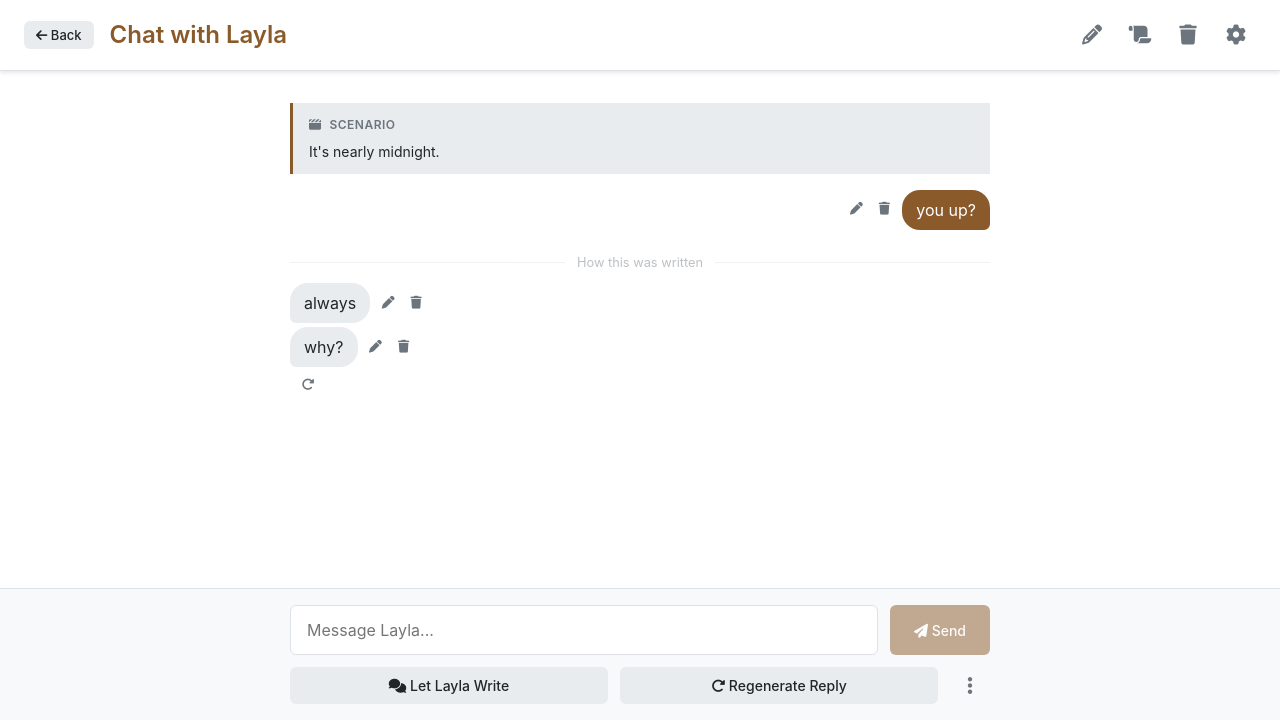
Test: ChatView › edits and deletes single messages
Click the button titled "Edit this message" next to "always" at {"x": 388, "y": 304}, box top-left (374, 290), bottom-right (402, 318)
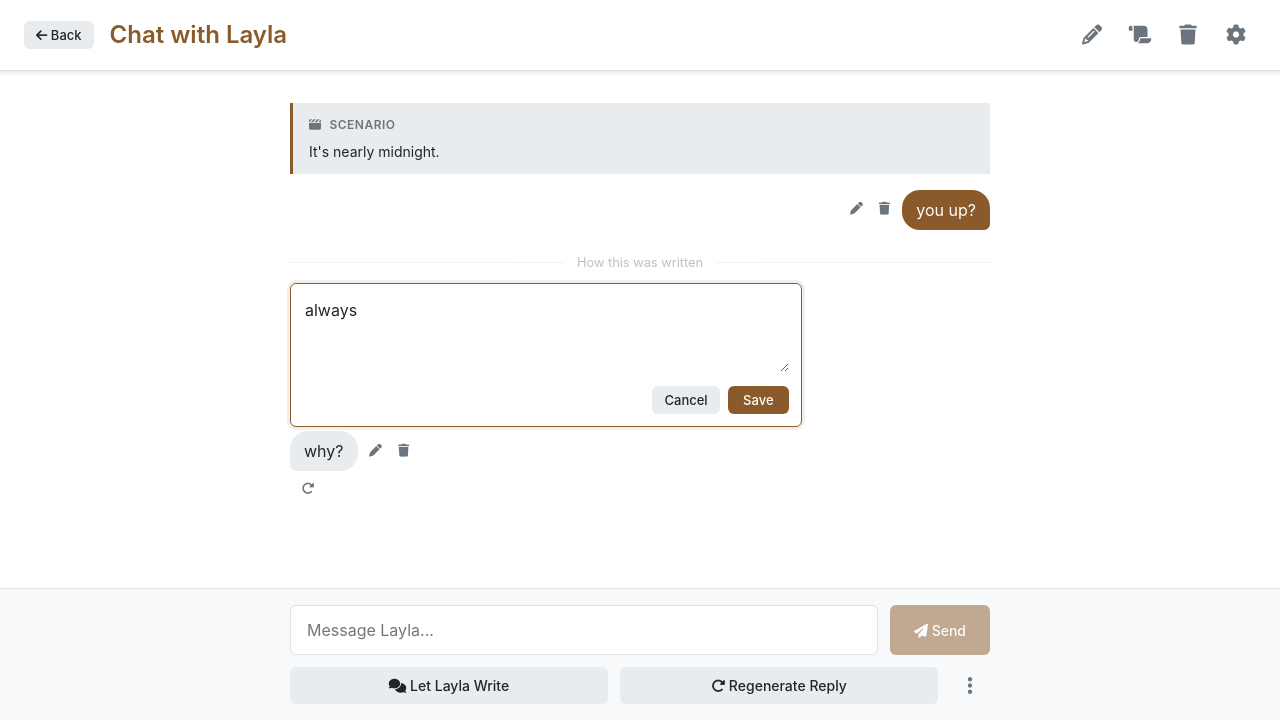
Replace the text in the text box with class "bubble-editor" with "always!" at {"x": 546, "y": 334}, box top-left (303, 296), bottom-right (789, 372)
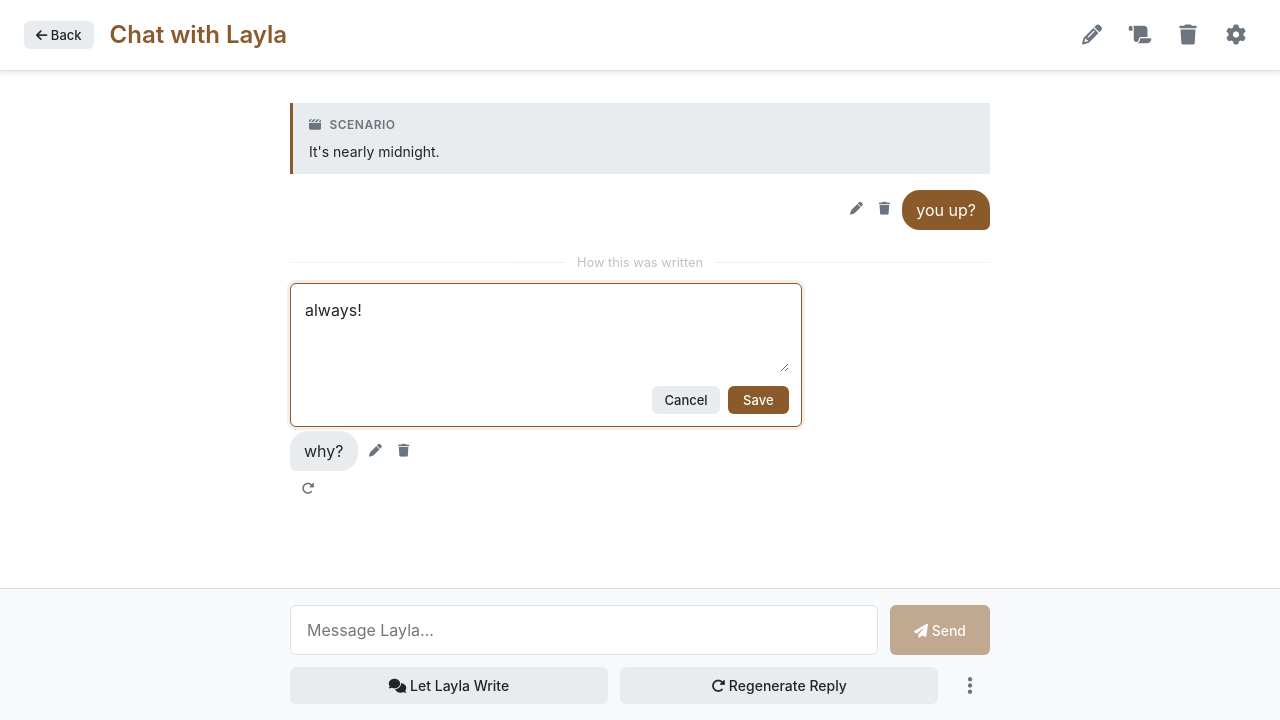
Click the button "Save" at {"x": 758, "y": 400}, box top-left (728, 386), bottom-right (789, 414)
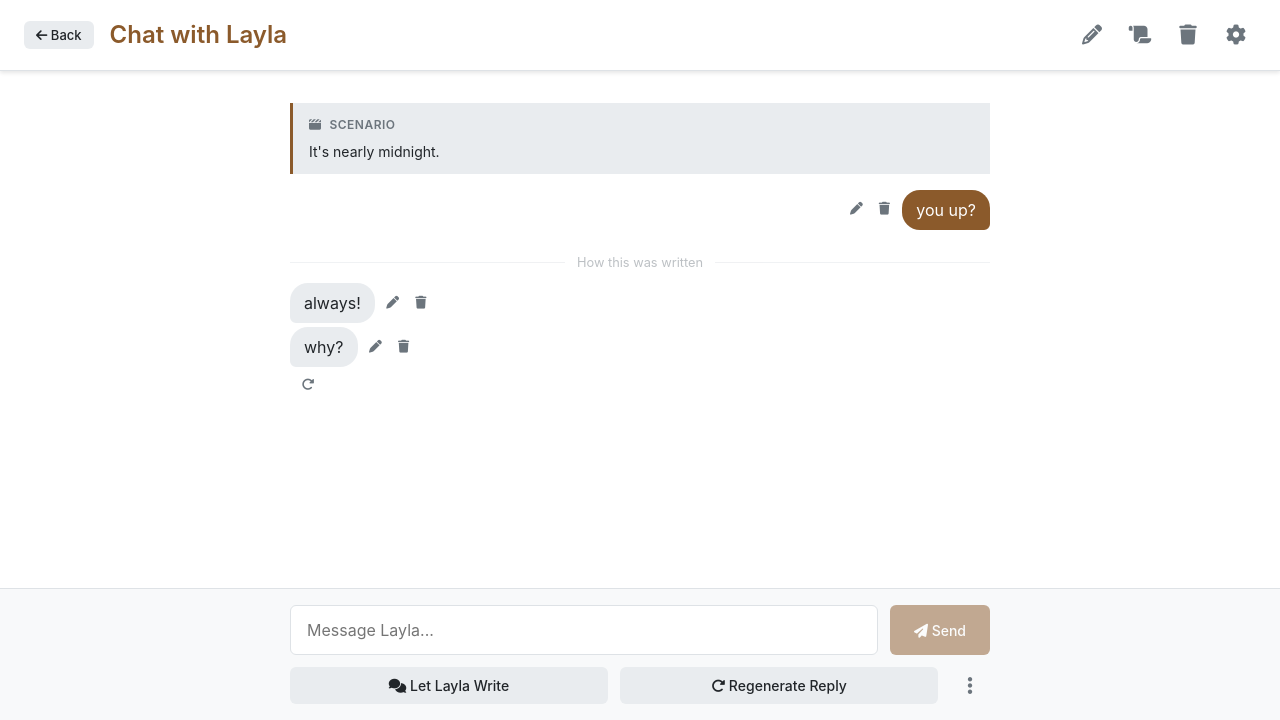
Click the button titled "Delete this message" next to "you up?" at {"x": 884, "y": 210}, box top-left (870, 196), bottom-right (898, 224)
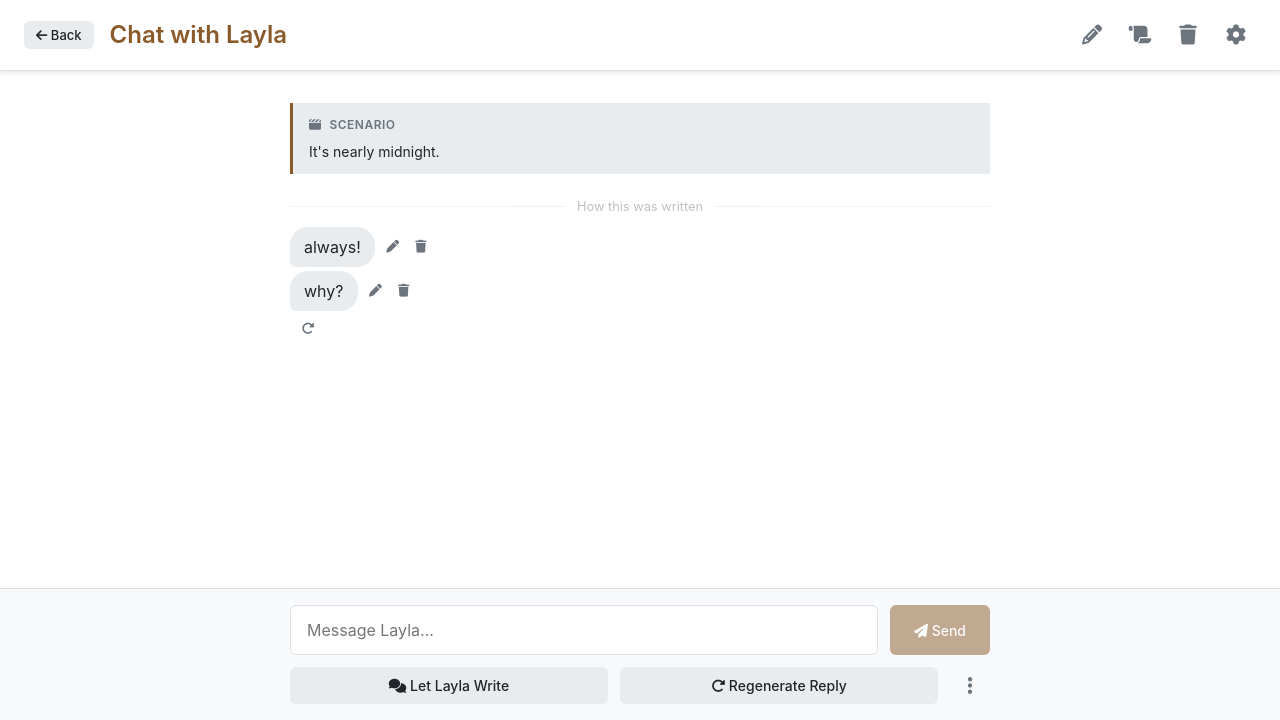
Now the elements with class "bubble" read "always!", "why?", in this order, box top-left (290, 228), bottom-right (375, 268); top-left (290, 272), bottom-right (358, 312)
